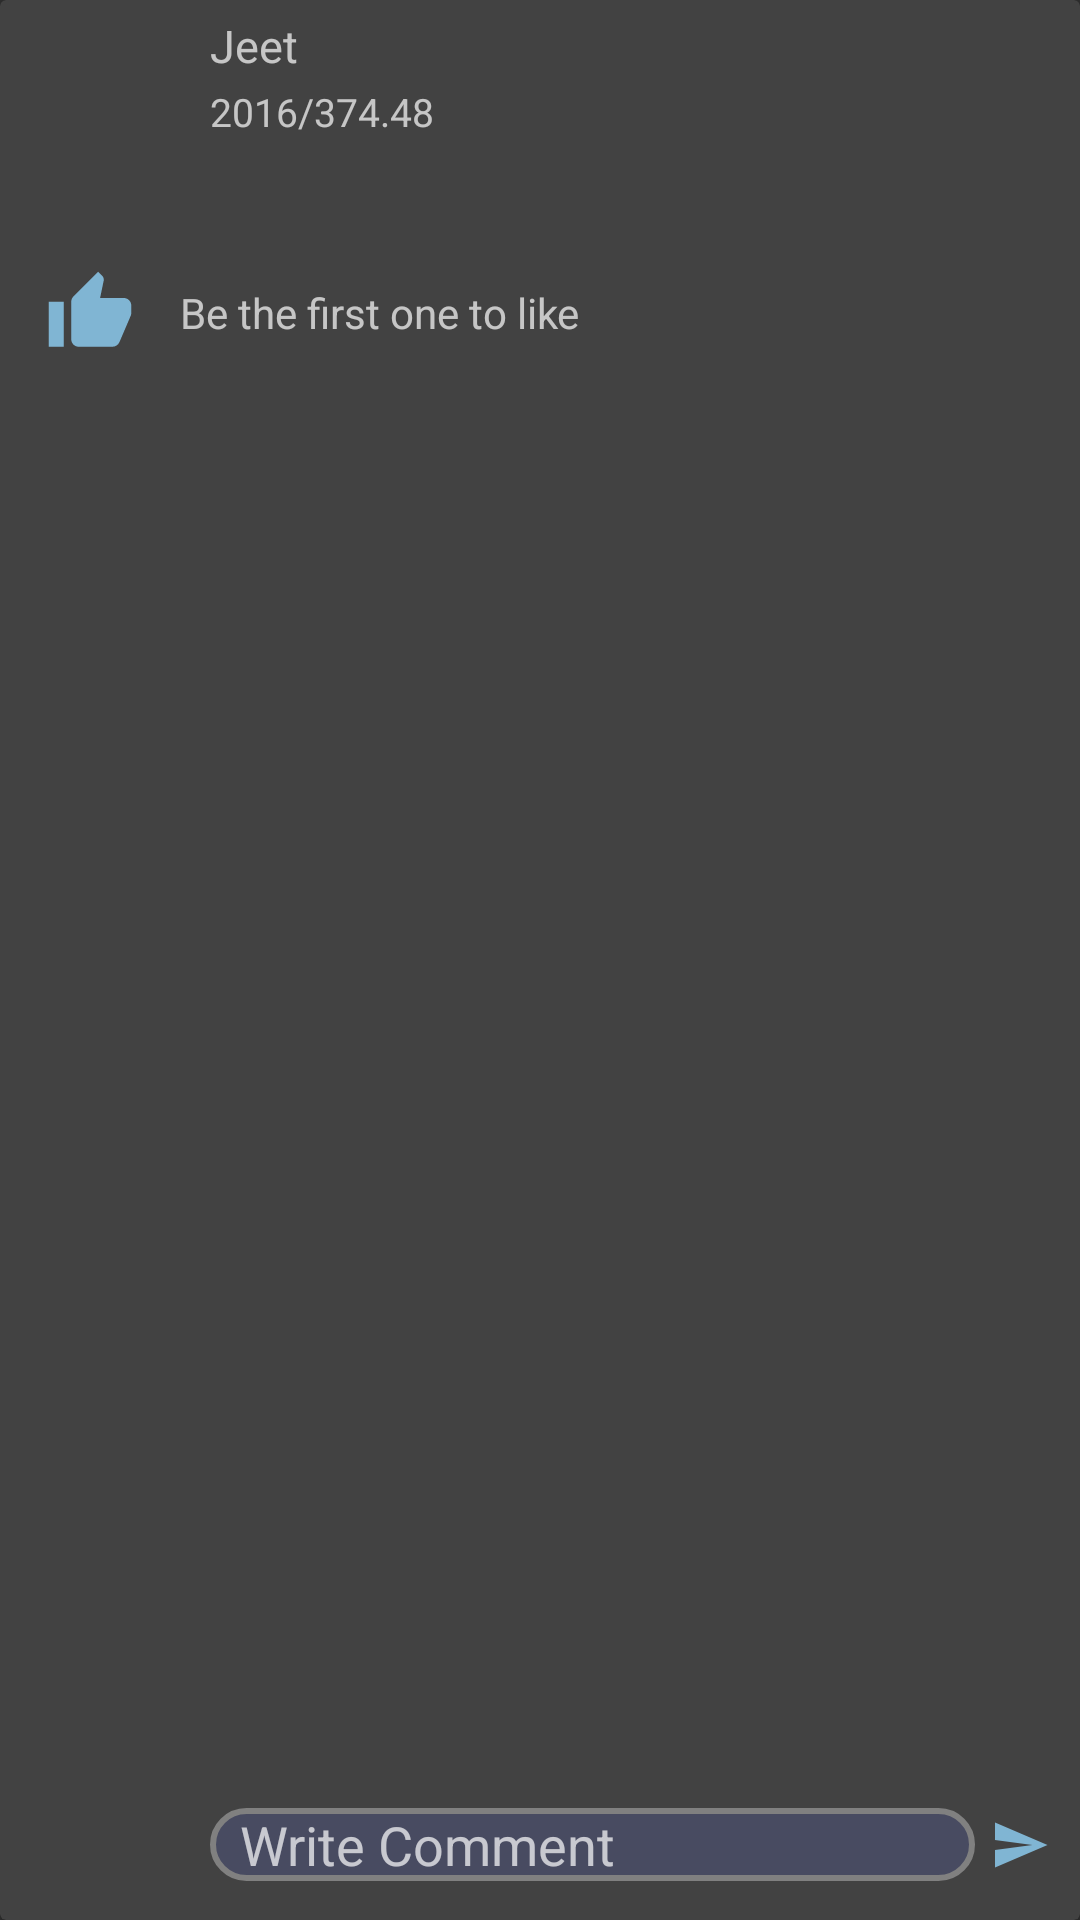

Icon bounding boxes for this 1080 x 1920 phone screenshot, format [left=x1, top=y1, right=x2, bottom=y2]:
send: [left=995, top=1822, right=1047, bottom=1868]
thumb up: [left=48, top=272, right=132, bottom=347]
